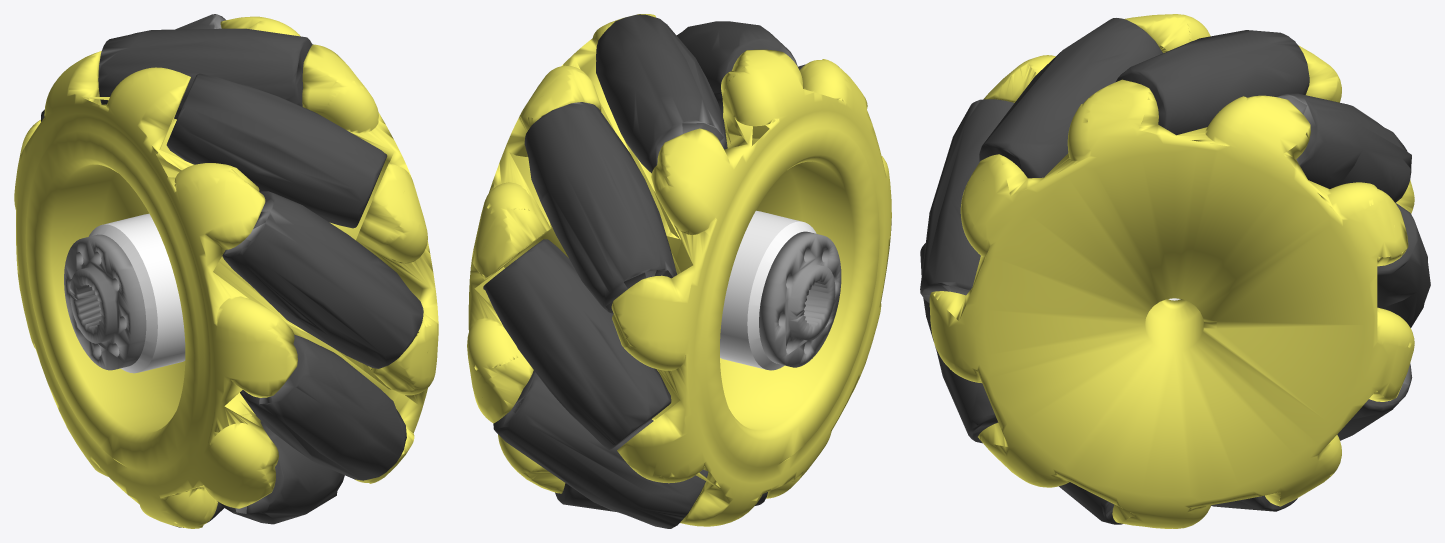
File: rear_left_wheel_link.dae
The picture shows the model from 3 angles, left to right: view 1: azimuth 30°, elevation 25°; view 2: azimuth 150°, elevation 25°; view 3: azimuth 270°, elevation 25°; orthographic projection.
Parts seen in each view (by area): view 1: node19, node5, node3, node15, node17, node20, node0, node13; view 2: node19, node1, node11, node17, node7, node20, node0, node3, node9; view 3: node19, node17, node3, node11, node5, node1, node15, node7, node13, node9.
Part boxes in pixels (bbox=[...]): node19: bbox=[14, 16, 438, 528]; node5: bbox=[222, 191, 423, 368]; node3: bbox=[166, 73, 387, 228]; node15: bbox=[240, 334, 406, 480]; node17: bbox=[98, 28, 312, 119]; node20: bbox=[64, 234, 146, 370]; node0: bbox=[88, 213, 185, 373]; node13: bbox=[217, 421, 344, 524]; node19: bbox=[467, 14, 891, 526]; node1: bbox=[483, 239, 671, 449]; node11: bbox=[524, 102, 677, 313]; node17: bbox=[596, 14, 727, 173]; node7: bbox=[493, 370, 708, 528]; node20: bbox=[759, 231, 841, 367]; node0: bbox=[720, 210, 816, 370]; node3: bbox=[677, 21, 797, 116]; node9: bbox=[555, 483, 767, 511]; node19: bbox=[929, 14, 1414, 528]; node17: bbox=[1116, 30, 1309, 135]; node3: bbox=[979, 18, 1162, 178]; node11: bbox=[1275, 93, 1411, 202]; node5: bbox=[920, 99, 1014, 303]; node1: bbox=[1377, 203, 1430, 327]; node15: bbox=[920, 243, 998, 443]; node7: bbox=[1337, 363, 1412, 440]; node13: bbox=[1059, 482, 1122, 524]; node9: bbox=[1211, 495, 1297, 511].
Bounding box in the file's own units: 0.0337 × 0.0605 × 0.0604.
